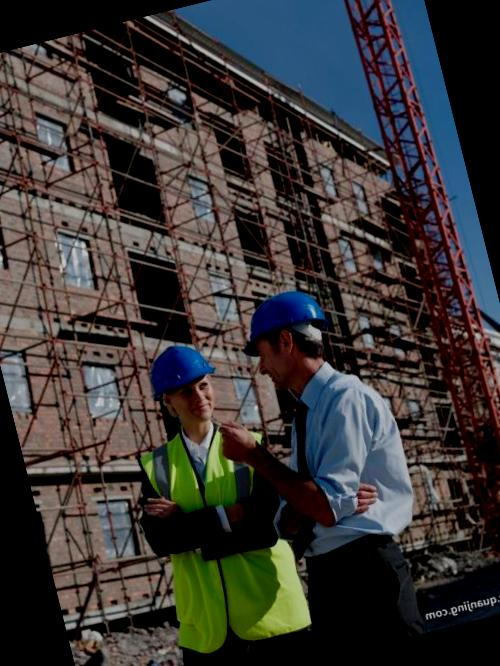person: (228, 274, 448, 658), (103, 331, 320, 666)
